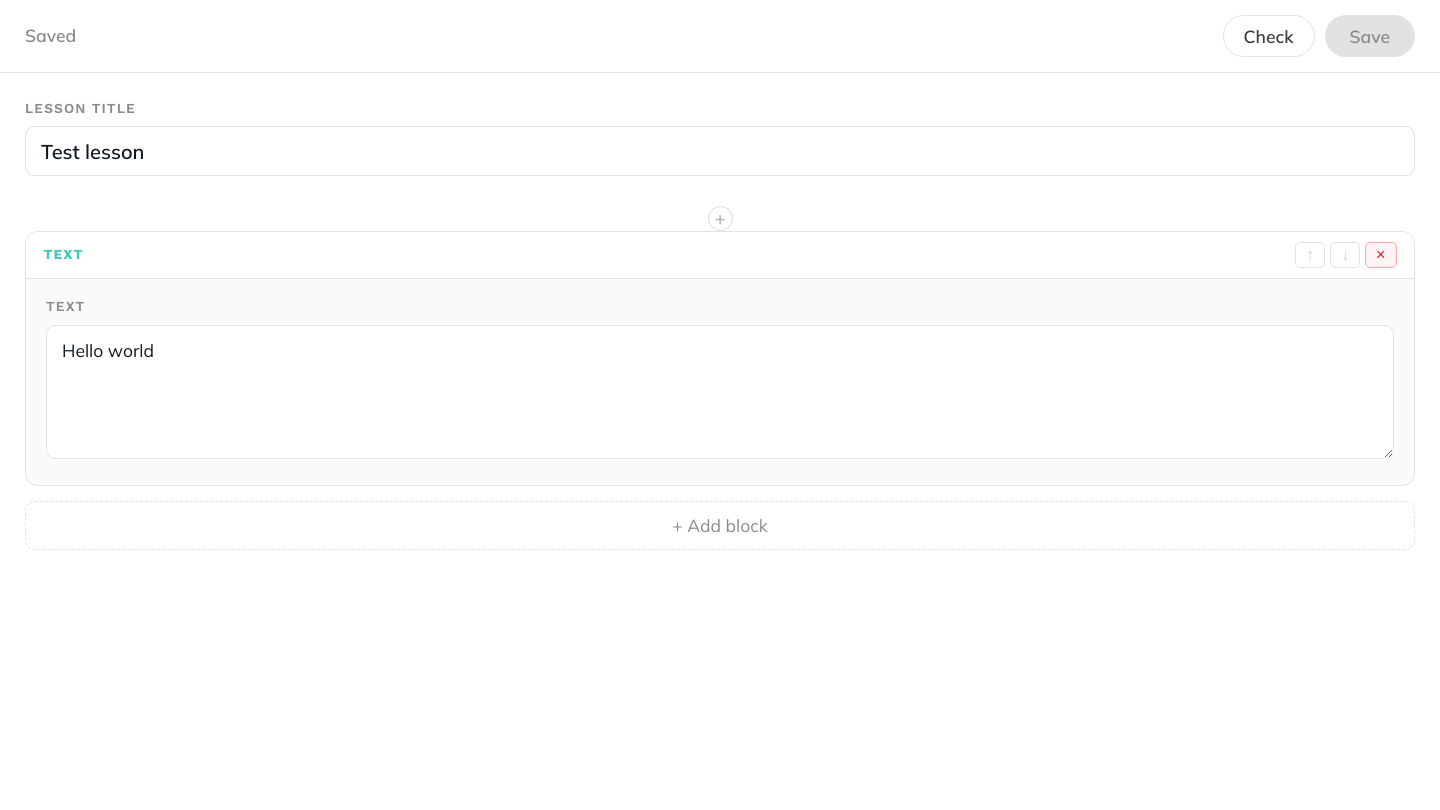
Test case: LessonEditor guarded save (B5) › a second conflict after overwrite shows again
Replace the text in the text box showing "Hello world" with "Changed". click: (720, 392)
box: [46,325,1394,459]
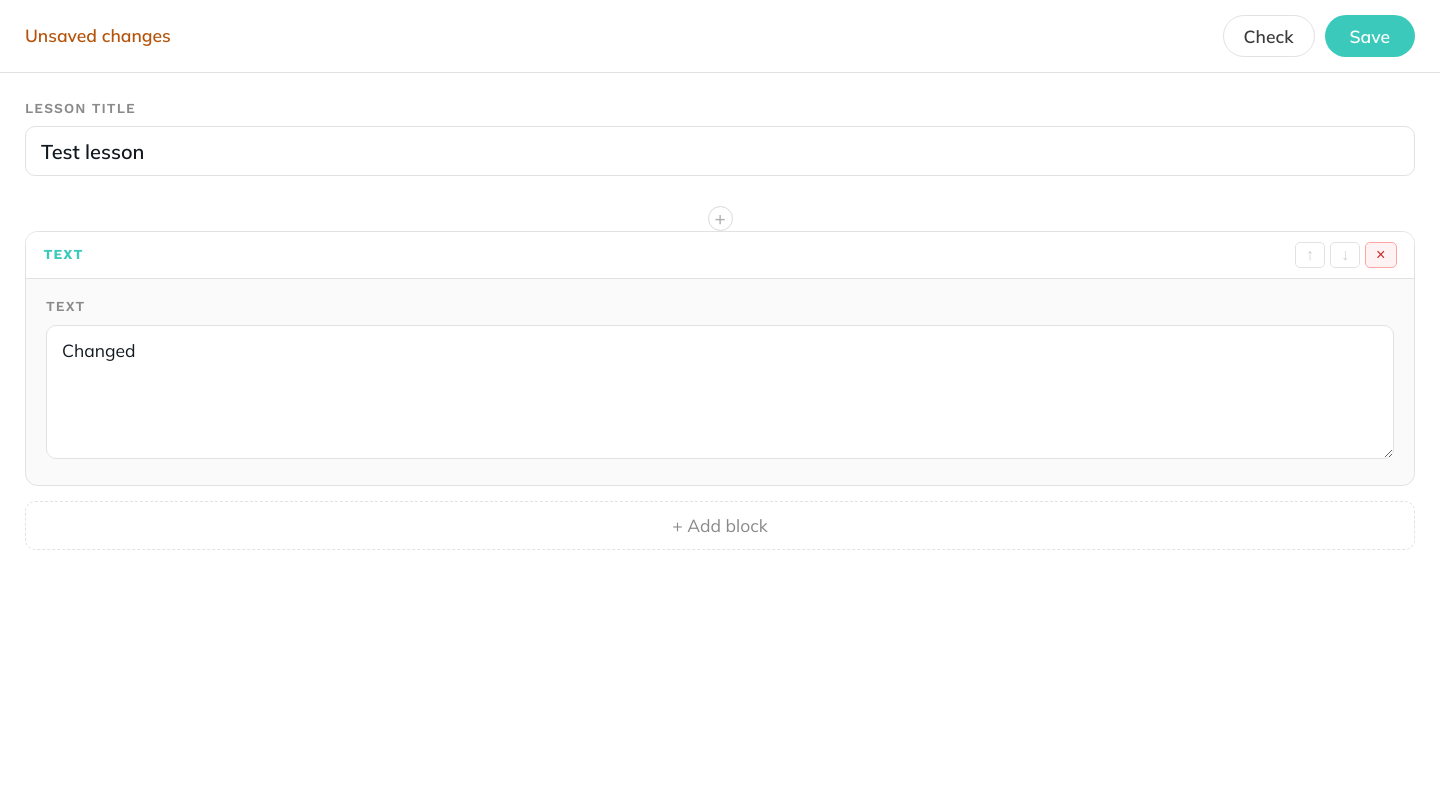
Click the button "Save". click: (1370, 36)
box: [1324,15,1415,56]
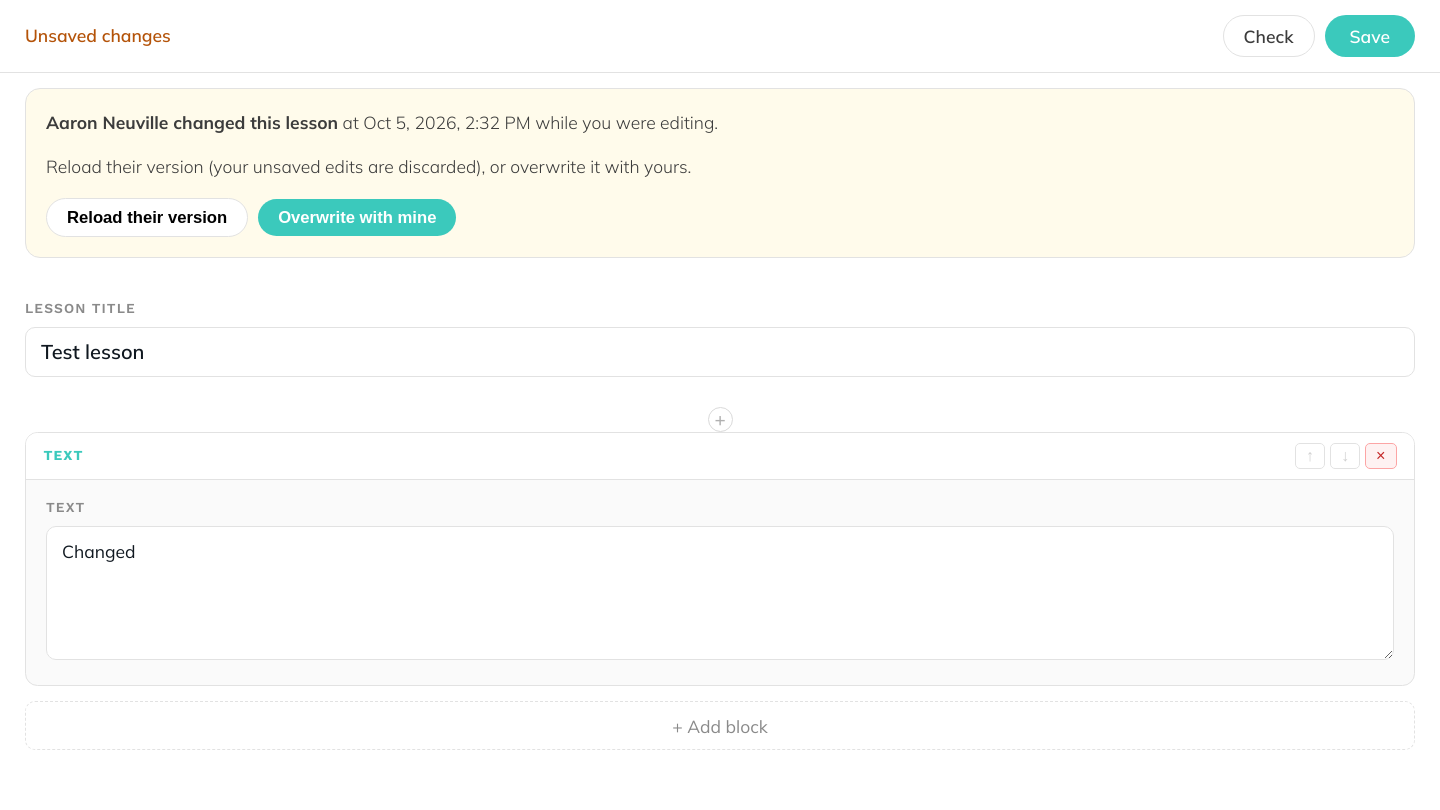
Click the button "Overwrite with mine". click: (357, 218)
box: [258,199,456,236]
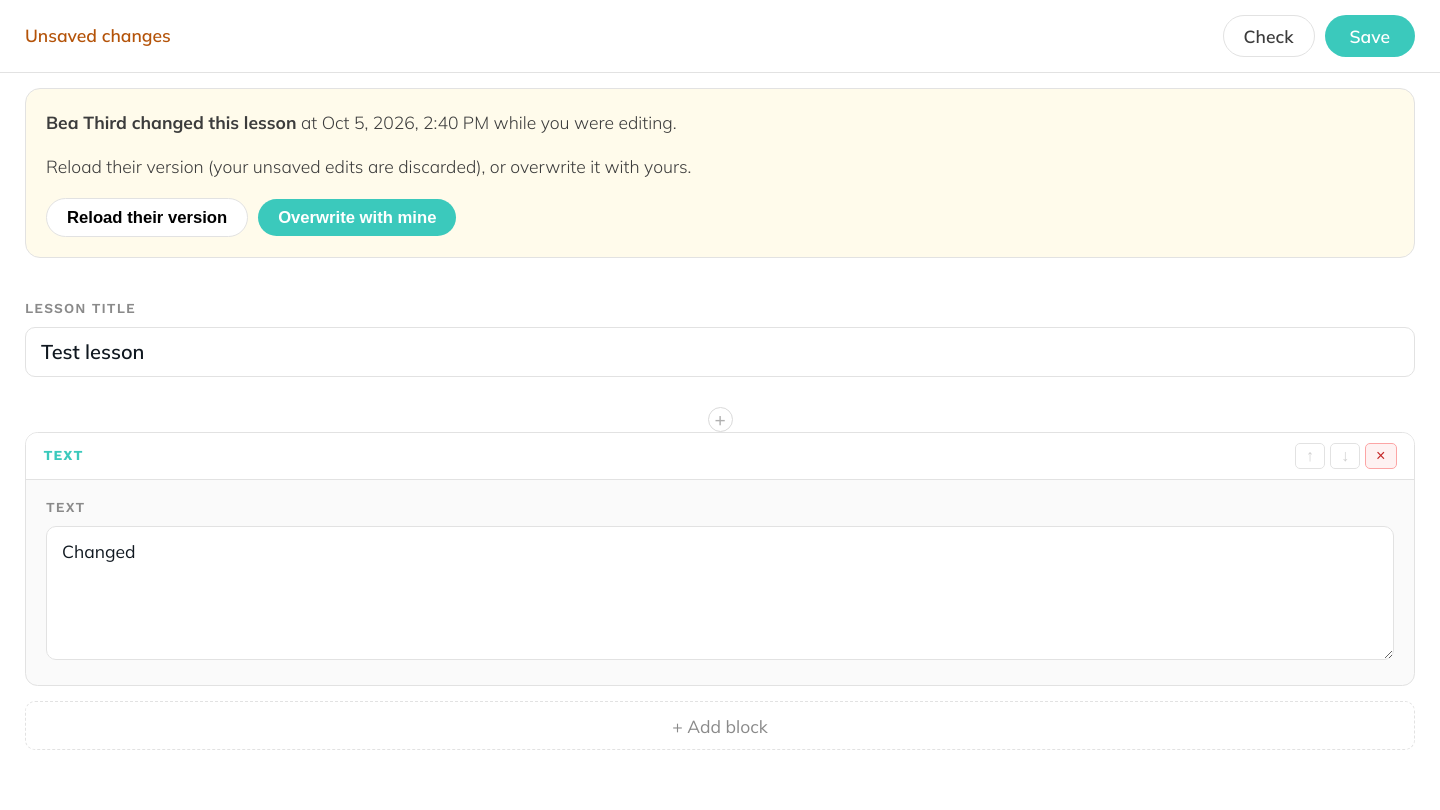
Expected: the text "Bea Third changed this lesson" is shown, [46,110,296,132]
